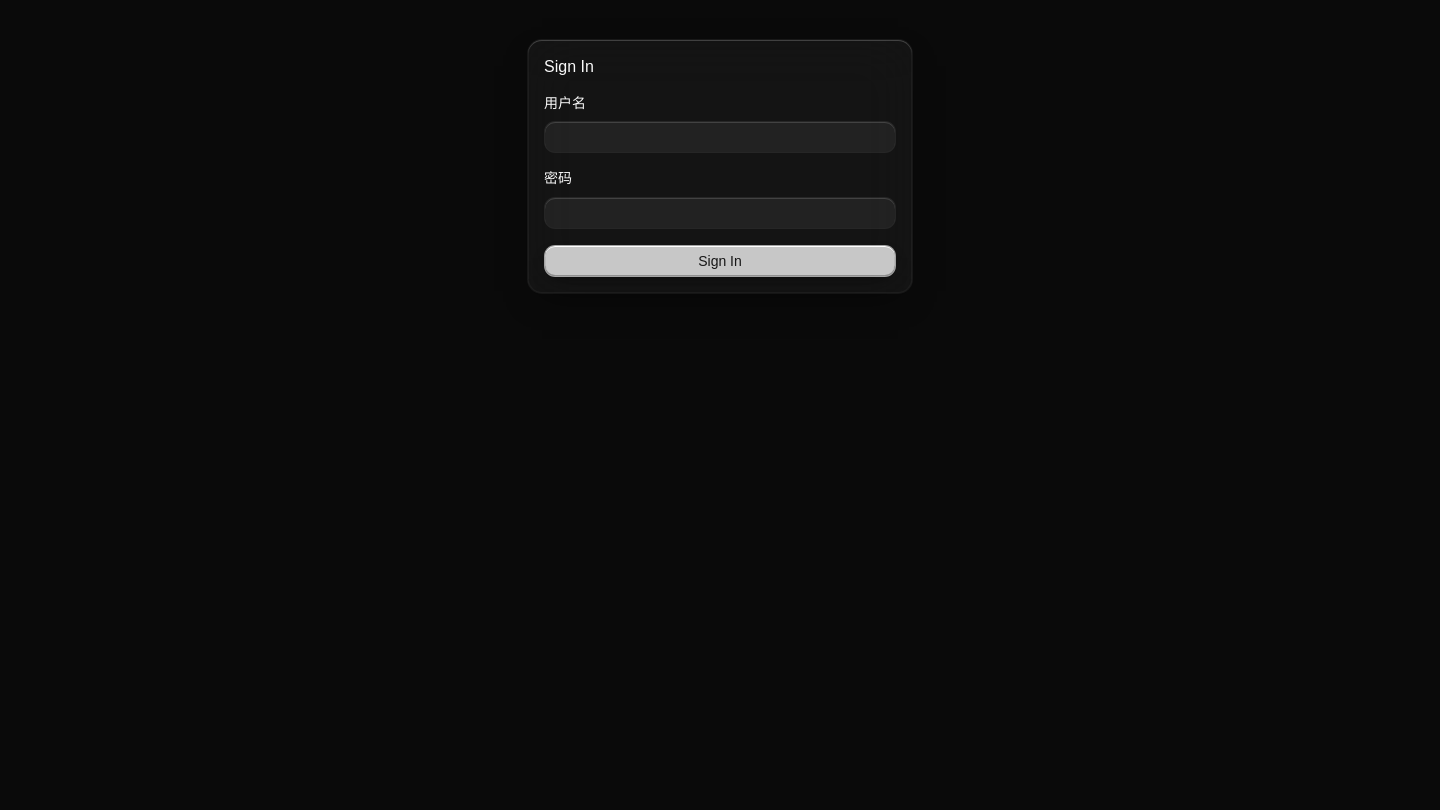
Scenario: Portal Login › opens captcha dialog and submits a built answer when enabled
Later steps or results of the test are not shown.
Type "u" into the field labelled "用户名" at (720, 137), box left=544, top=121, right=896, bottom=153
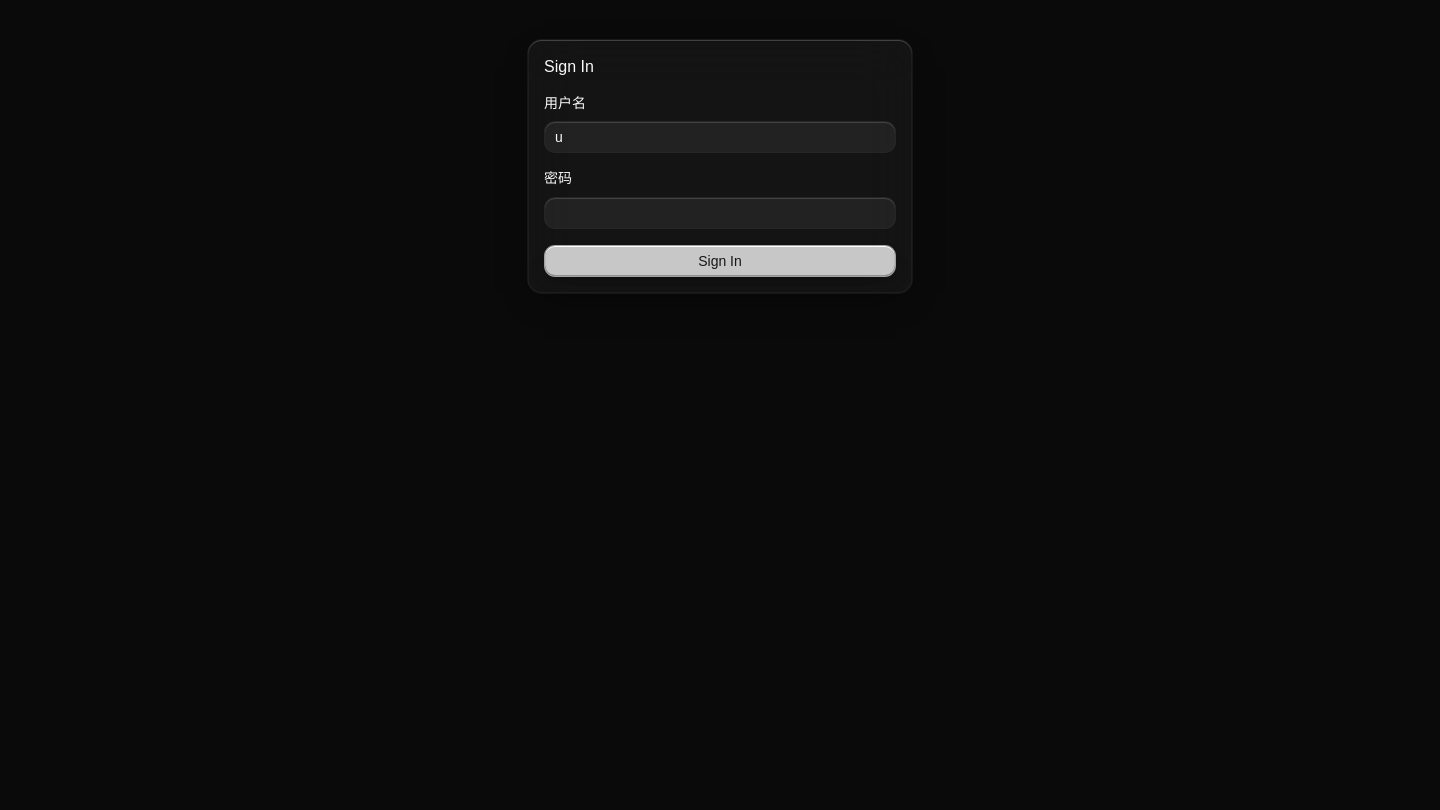
Type "p" into the password field labelled "密码" at (720, 212), box left=544, top=196, right=896, bottom=228
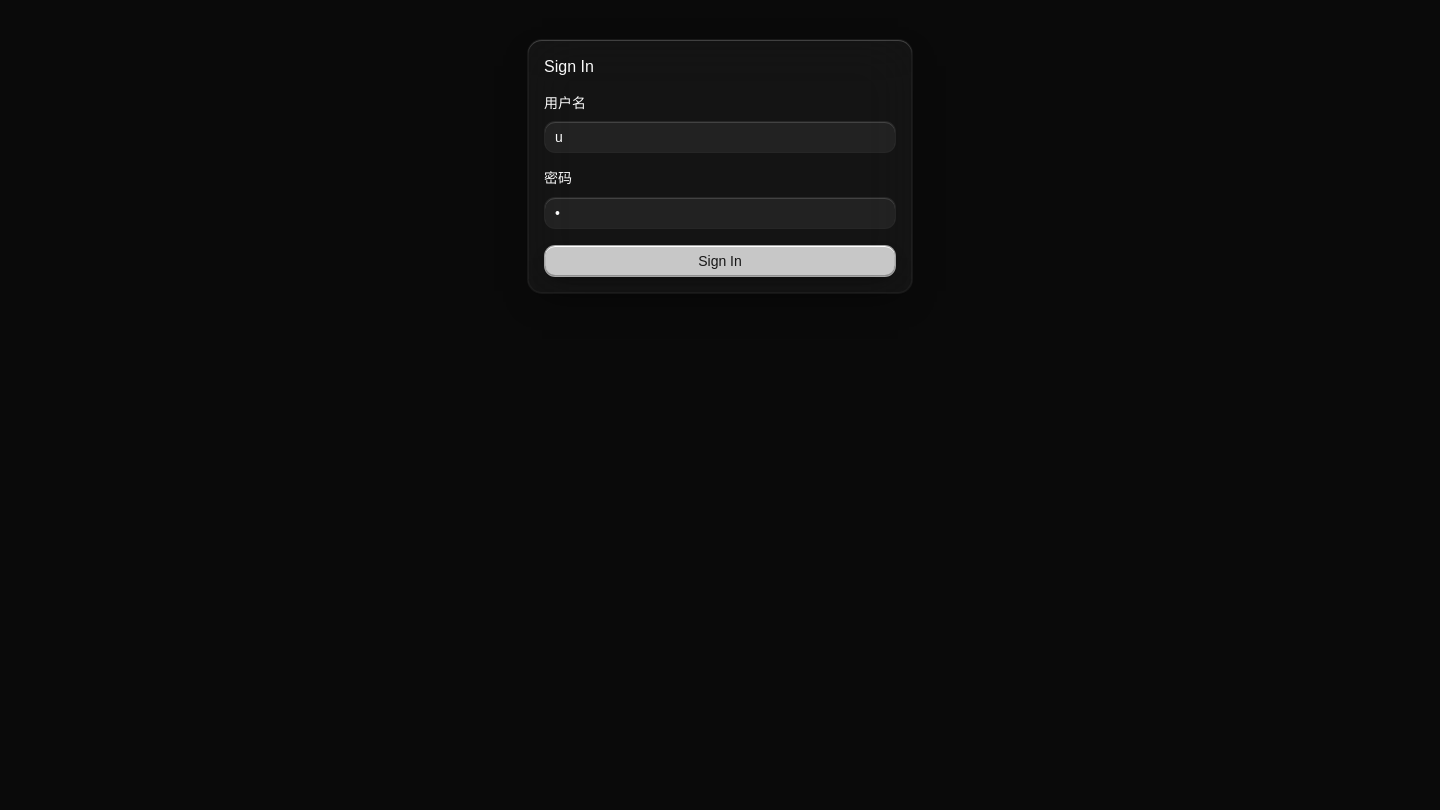
Click the button "Sign In" at (720, 260), box left=544, top=244, right=896, bottom=276
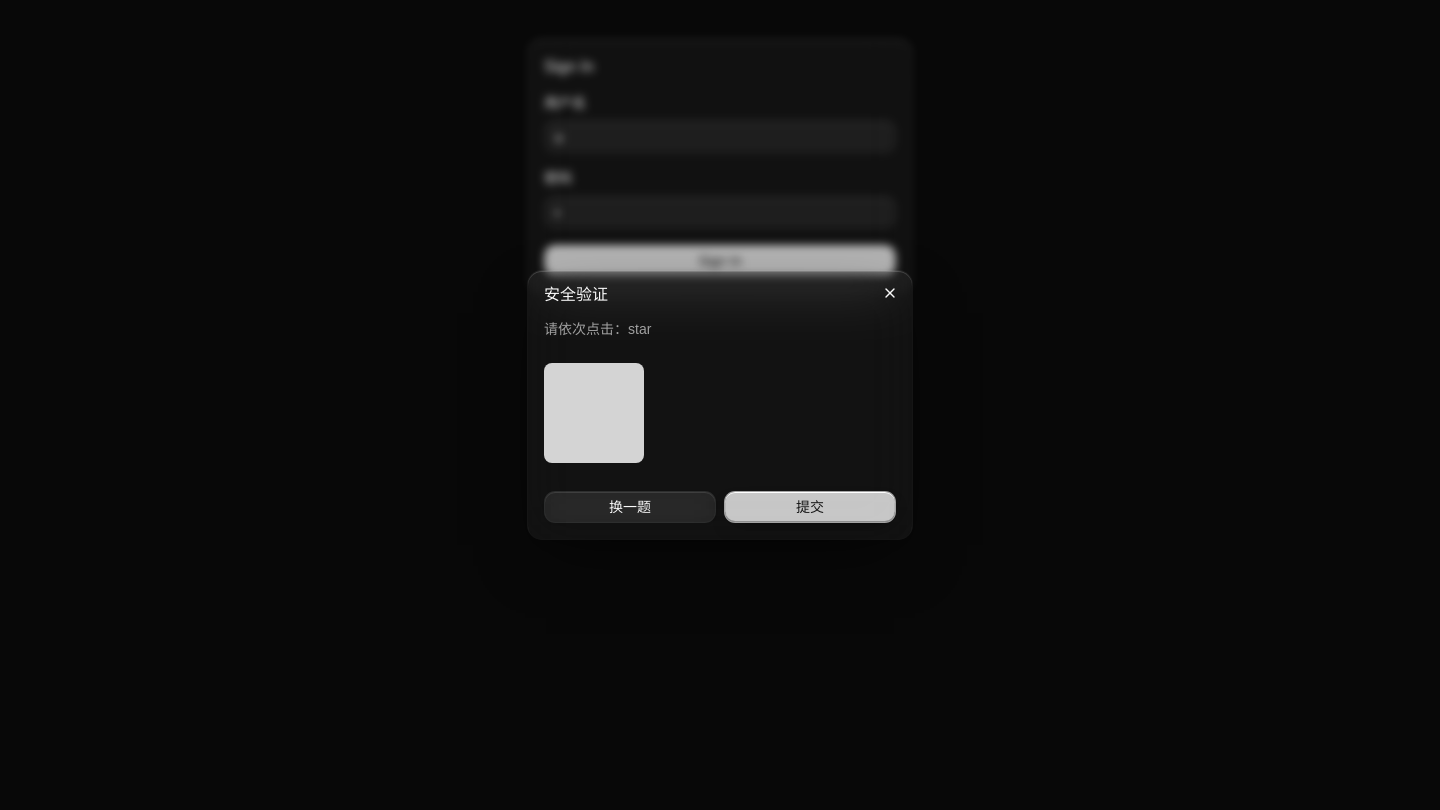
Result: the heading "安全验证" is shown at left=544, top=286, right=608, bottom=303
